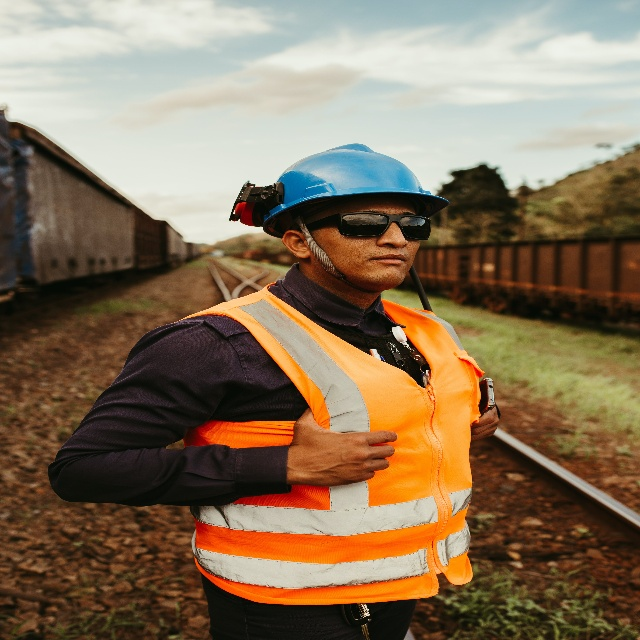Gafas: (303, 207, 431, 242)
Sin_guantes: (288, 407, 399, 487), (471, 405, 500, 442)
